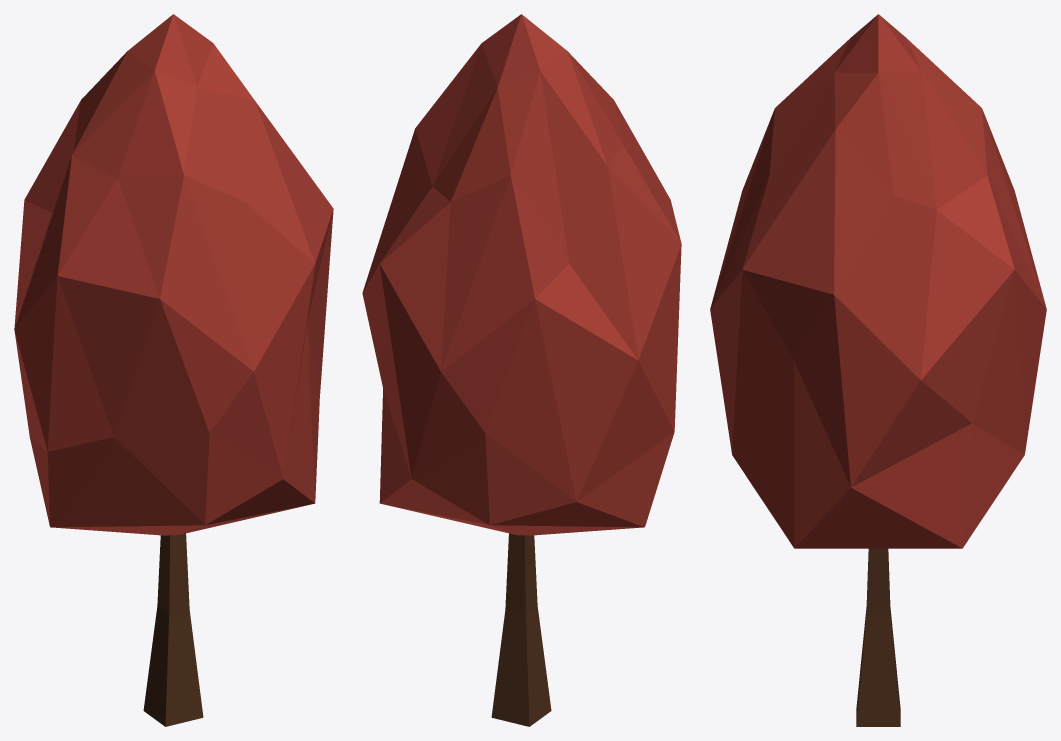
The model's file is Tree_40_Red.fbx.
The picture shows the model from 3 angles, left to right: view 1: azimuth 30°, elevation 25°; view 2: azimuth 150°, elevation 25°; view 3: azimuth 270°, elevation 25°; orthographic projection.
Parts seen in each view (by area): view 1: Tree_40_Red_Part_1, Tree_40_Red_Part_2; view 2: Tree_40_Red_Part_1, Tree_40_Red_Part_2; view 3: Tree_40_Red_Part_1, Tree_40_Red_Part_2.
Part boxes in pixels (x1=…): Tree_40_Red_Part_1: x1=14, y1=14, x2=333, y2=535; Tree_40_Red_Part_2: x1=143, y1=533, x2=203, y2=726; Tree_40_Red_Part_1: x1=362, y1=14, x2=681, y2=535; Tree_40_Red_Part_2: x1=491, y1=533, x2=551, y2=726; Tree_40_Red_Part_1: x1=710, y1=14, x2=1046, y2=548; Tree_40_Red_Part_2: x1=856, y1=548, x2=900, y2=726.
Size of the model in its own units: 331 by 798 by 346.
